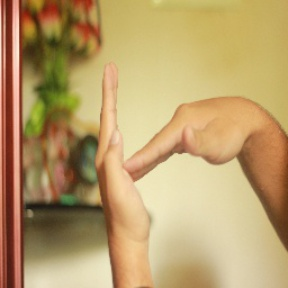Z: (83, 51, 247, 243)
